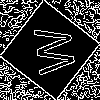W: (25, 25, 76, 78)
